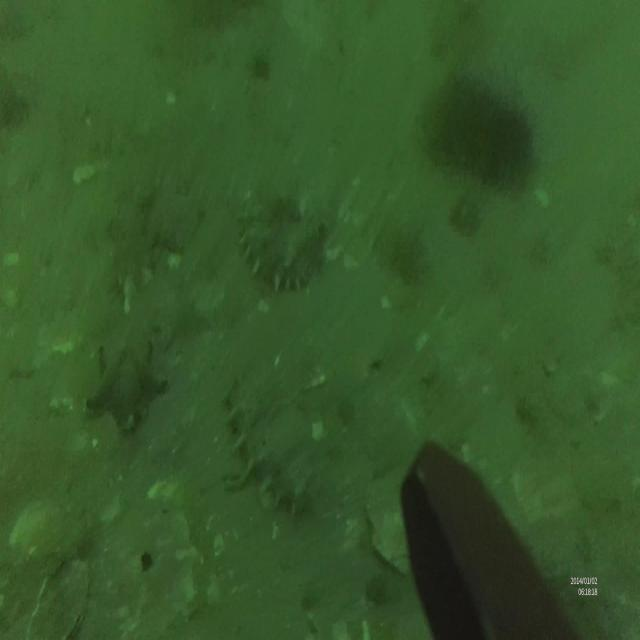holothurian: (222, 389, 299, 523), (242, 201, 326, 302)
starfish: (87, 336, 158, 439)
